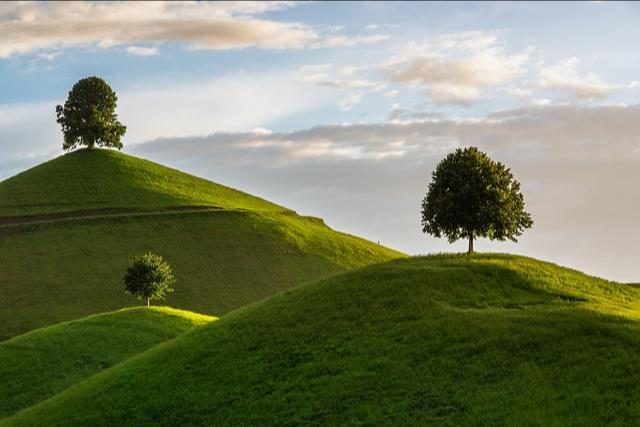Non_Gorille: (47, 20, 560, 329)
